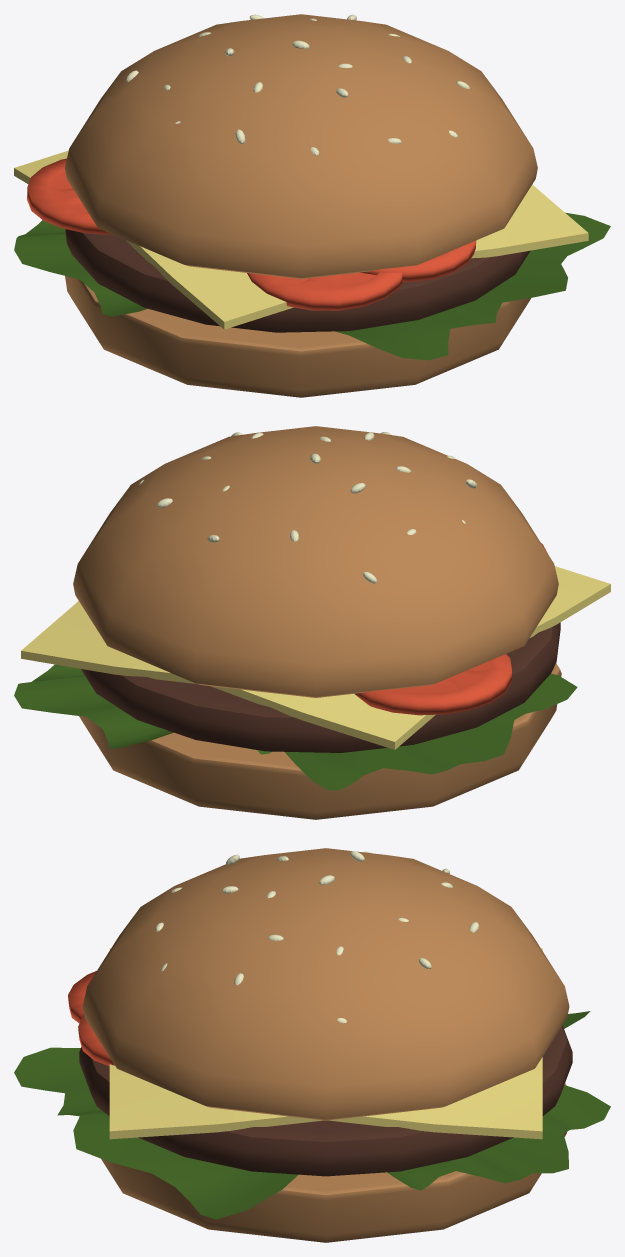
File: burger_v001 (1).fbx
3 renders of one model, top to bottom at view 1: azimuth 30°, elevation 25°; view 2: azimuth 150°, elevation 25°; view 3: azimuth 270°, elevation 25°, orthographic. The views are drawn at different scales.
Visible parts, largest first — view 1: polySurface2, polySurface1, pCylinder1, pCube1, pPlane1, pCylinder4, pPlane2, pCylinder6, pCylinder5; view 2: polySurface2, polySurface1, pCylinder1, pCube1, pPlane2, pPlane3, pCylinder6; view 3: polySurface2, polySurface1, pCylinder1, pCube1, pPlane1, pPlane3, pCylinder5, pCylinder4.
Part boxes in pixels (x1=…): polySurface2: x1=65, y1=14, x2=537, y2=278; polySurface1: x1=65, y1=276, x2=530, y2=397; pCylinder1: x1=65, y1=229, x2=529, y2=332; pCube1: x1=14, y1=150, x2=588, y2=329; pPlane1: x1=335, y1=212, x2=610, y2=360; pCylinder4: x1=247, y1=272, x2=403, y2=310; pPlane2: x1=14, y1=220, x2=146, y2=316; pCylinder6: x1=27, y1=158, x2=112, y2=234; pCylinder5: x1=360, y1=240, x2=476, y2=282; polySurface2: x1=73, y1=426, x2=558, y2=697; polySurface1: x1=79, y1=663, x2=561, y2=819; pCylinder1: x1=81, y1=622, x2=560, y2=752; pCube1: x1=21, y1=566, x2=610, y2=749; pPlane2: x1=285, y1=673, x2=577, y2=790; pPlane3: x1=14, y1=664, x2=174, y2=748; pCylinder6: x1=354, y1=654, x2=511, y2=715; polySurface2: x1=82, y1=848, x2=569, y2=1120; polySurface1: x1=101, y1=1083, x2=566, y2=1242; pCylinder1: x1=79, y1=1025, x2=572, y2=1176; pCube1: x1=109, y1=948, x2=542, y2=1139; pPlane1: x1=14, y1=1047, x2=298, y2=1219; pPlane3: x1=386, y1=1085, x2=610, y2=1190; pCylinder5: x1=78, y1=1014, x2=114, y2=1066; pCylinder4: x1=68, y1=971, x2=96, y2=1023.
Size of the model in its own units: 37.02 by 19.12 by 38.14.
